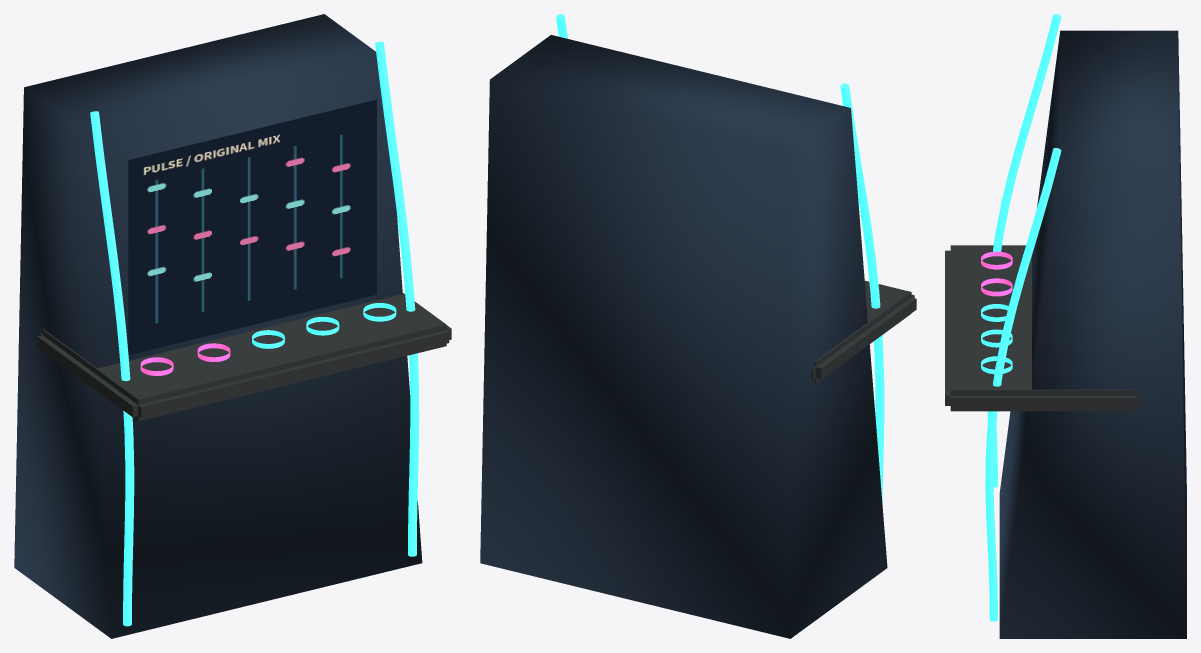
File: fixture_v25_music_cabinet.glb
3 renders of one model, left to right at view 1: azimuth 30°, elevation 25°; view 2: azimuth 150°, elevation 25°; view 3: azimuth 270°, elevation 25°, orthographic. The views are drawn at different scales.
Visible parts, largest first — view 1: fixture_v25_music_cabinet_V25_arcade_navy, fixture_v25_music_cabinet_original-music-screen, fixture_v25_music_cabinet_Anodised_graphite, fixture_v25_music_cabinet_V25_neon_cyan, fixture_v25_music_cabinet_V25_neon_pink; view 2: fixture_v25_music_cabinet_V25_arcade_navy, fixture_v25_music_cabinet_V25_neon_cyan, fixture_v25_music_cabinet_Anodised_graphite; view 3: fixture_v25_music_cabinet_V25_arcade_navy, fixture_v25_music_cabinet_Anodised_graphite, fixture_v25_music_cabinet_V25_neon_cyan, fixture_v25_music_cabinet_V25_neon_pink.
Part boxes in pixels (x1,y1,x2,y2): fixture_v25_music_cabinet_V25_arcade_navy: (14,14,422,638); fixture_v25_music_cabinet_original-music-screen: (128,99,376,354); fixture_v25_music_cabinet_Anodised_graphite: (37,293,451,421); fixture_v25_music_cabinet_V25_neon_cyan: (90,41,419,626); fixture_v25_music_cabinet_V25_neon_pink: (140,343,230,375); fixture_v25_music_cabinet_V25_arcade_navy: (480,35,887,638); fixture_v25_music_cabinet_V25_neon_cyan: (556,14,884,504); fixture_v25_music_cabinet_Anodised_graphite: (811,280,916,383); fixture_v25_music_cabinet_V25_arcade_navy: (999,30,1186,638); fixture_v25_music_cabinet_Anodised_graphite: (945,245,1140,411); fixture_v25_music_cabinet_V25_neon_cyan: (981,14,1061,621); fixture_v25_music_cabinet_V25_neon_pink: (981,251,1012,296).
Bounding box in the file's own units: 1.23 × 1.85 × 0.84.
Materials: 5 (1 with a texture image).
